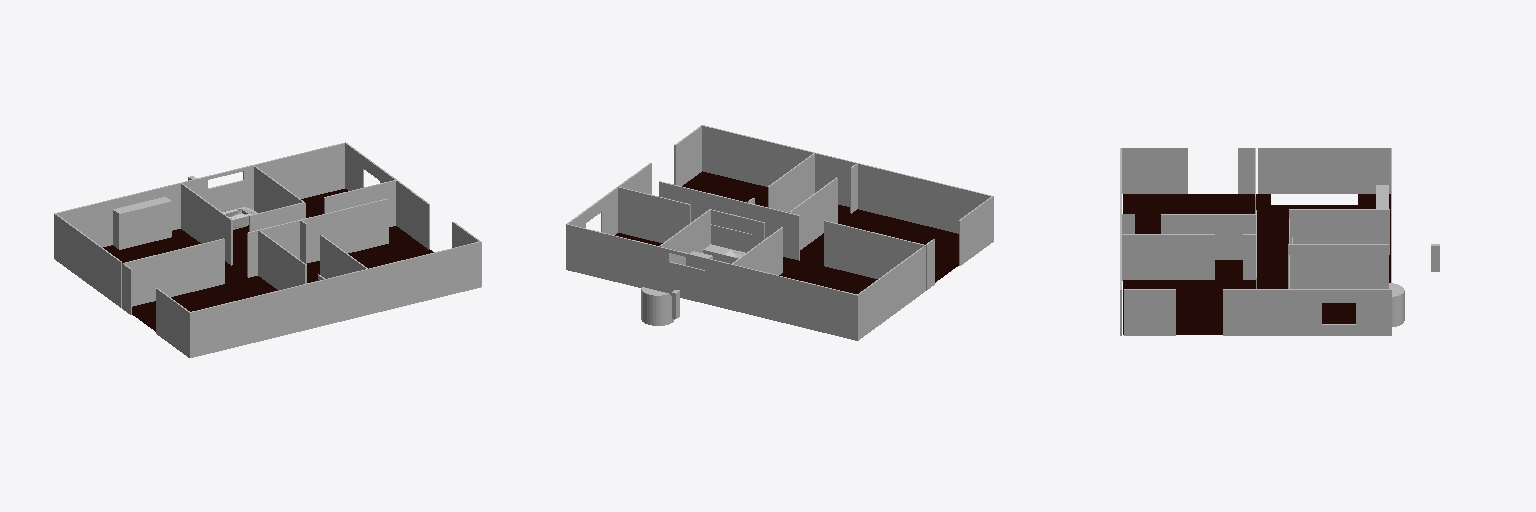
The model's file is 2ndoNivelv2.obj.
3 views of the same model, side by side, from view 1: azimuth 30°, elevation 25°; view 2: azimuth 150°, elevation 25°; view 3: azimuth 270°, elevation 25° (orthographic).
Parts seen in each view (by area): view 1: Cube.082, Cube.002_Cube.003, Plane.002, Cube.011_Cube.012, Cube.006_Cube.007, Cube.021_Cube.026, Cube.025_Cube.009, Cube.019_Cube.023, Cube.005_Cube.000, Cube.014_Cube.015, Cube_Cube.002, Cube.015_Cube.019 (+4 smaller); view 2: Cube.002_Cube.003, Cube.082, Plane.002, Cube.006_Cube.007, Cube.021_Cube.026, Cube.011_Cube.012, Cube.015_Cube.019, Cube.005_Cube.000, Cube.005_Cube.006, Cube_Cube.002, Cube.017_Cube.021, Cube.019_Cube.023 (+5 smaller); view 3: Plane.002, Cube.021_Cube.026, Cube.014_Cube.015, Cube.017_Cube.021, Cube.005_Cube.006, Cube.019_Cube.023, Cube_Cube.002, Cube.005_Cube.000, Cube.009_Cube.010, Cube.010_Cube.011, Cube.003_Cube.005, Cube.005_Cube.001 (+1 smaller).
Boxes of the visible parts, <box> form: Cube.082: <box>191,241,481,357</box>; Cube.002_Cube.003: <box>56,142,345,247</box>; Plane.002: <box>103,189,433,331</box>; Cube.011_Cube.012: <box>247,198,388,277</box>; Cube.006_Cube.007: <box>122,238,224,306</box>; Cube.021_Cube.026: <box>54,213,121,307</box>; Cube.025_Cube.009: <box>113,197,171,249</box>; Cube.019_Cube.023: <box>181,183,232,265</box>; Cube.005_Cube.000: <box>258,230,306,290</box>; Cube.014_Cube.015: <box>345,143,412,236</box>; Cube_Cube.002: <box>156,288,190,357</box>; Cube.015_Cube.019: <box>324,180,395,226</box>; Cube.002_Cube.003: <box>566,224,856,340</box>; Cube.082: <box>701,125,990,233</box>; Plane.002: <box>615,171,958,293</box>; Cube.006_Cube.007: <box>824,220,925,290</box>; Cube.021_Cube.026: <box>856,246,924,340</box>; Cube.011_Cube.012: <box>659,181,799,260</box>; Cube.015_Cube.019: <box>618,187,690,242</box>; Cube.005_Cube.000: <box>789,177,837,249</box>; Cube.005_Cube.006: <box>768,153,814,212</box>; Cube_Cube.002: <box>959,196,993,265</box>; Cube.017_Cube.021: <box>660,209,710,264</box>; Cube.019_Cube.023: <box>732,227,782,274</box>; Plane.002: <box>1123,194,1390,334</box>; Cube.021_Cube.026: <box>1258,148,1390,193</box>; Cube.014_Cube.015: <box>1257,289,1390,335</box>; Cube.017_Cube.021: <box>1288,244,1388,288</box>; Cube.005_Cube.006: <box>1122,234,1214,280</box>; Cube.019_Cube.023: <box>1289,209,1389,254</box>; Cube_Cube.002: <box>1122,148,1187,193</box>; Cube.005_Cube.000: <box>1161,214,1255,259</box>; Cube.009_Cube.010: <box>1124,289,1175,335</box>; Cube.010_Cube.011: <box>1223,289,1256,335</box>; Cube.003_Cube.005: <box>1238,148,1254,193</box>; Cube.005_Cube.001: <box>1243,234,1255,279</box>.
Size of the model in its own units: 20.13 by 4.9 by 19.06.